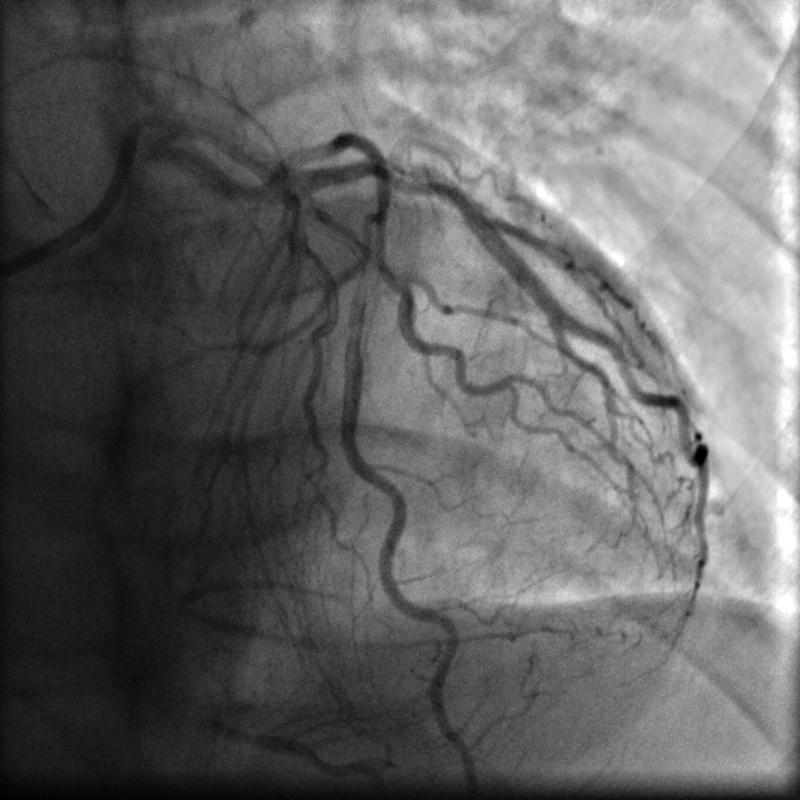Stenosis: (352, 243, 376, 306)
